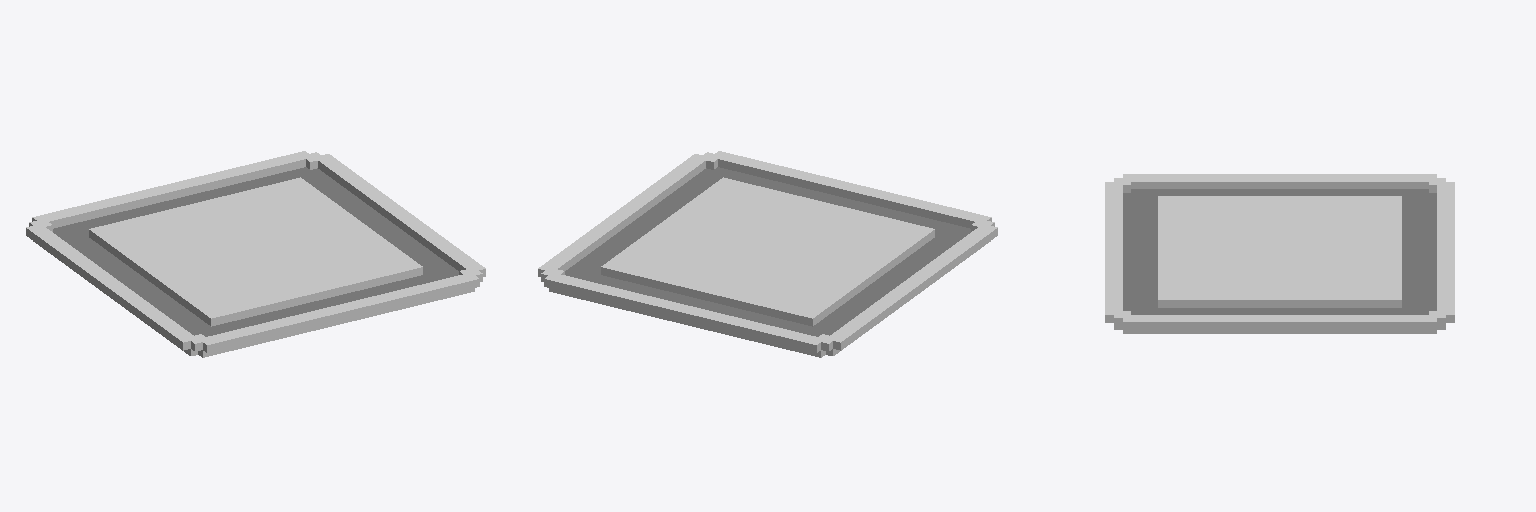
The picture shows the model from 3 angles: view 1: azimuth 30°, elevation 25°; view 2: azimuth 150°, elevation 25°; view 3: azimuth 270°, elevation 25°; orthographic projection.
Visible parts, largest first — view 1: box_small; view 2: box_small; view 3: box_small.
Part boxes in pixels (x1,y1,x2,y2): box_small: (26, 151, 485, 357); box_small: (538, 151, 997, 357); box_small: (1105, 174, 1454, 333).
Size of the model in its own units: 4 by 0.2 by 4.
1 materials, 1 textured.